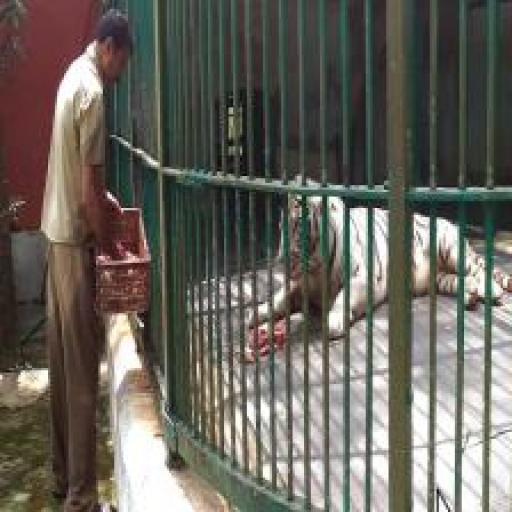Tiger: (242, 172, 512, 346)
